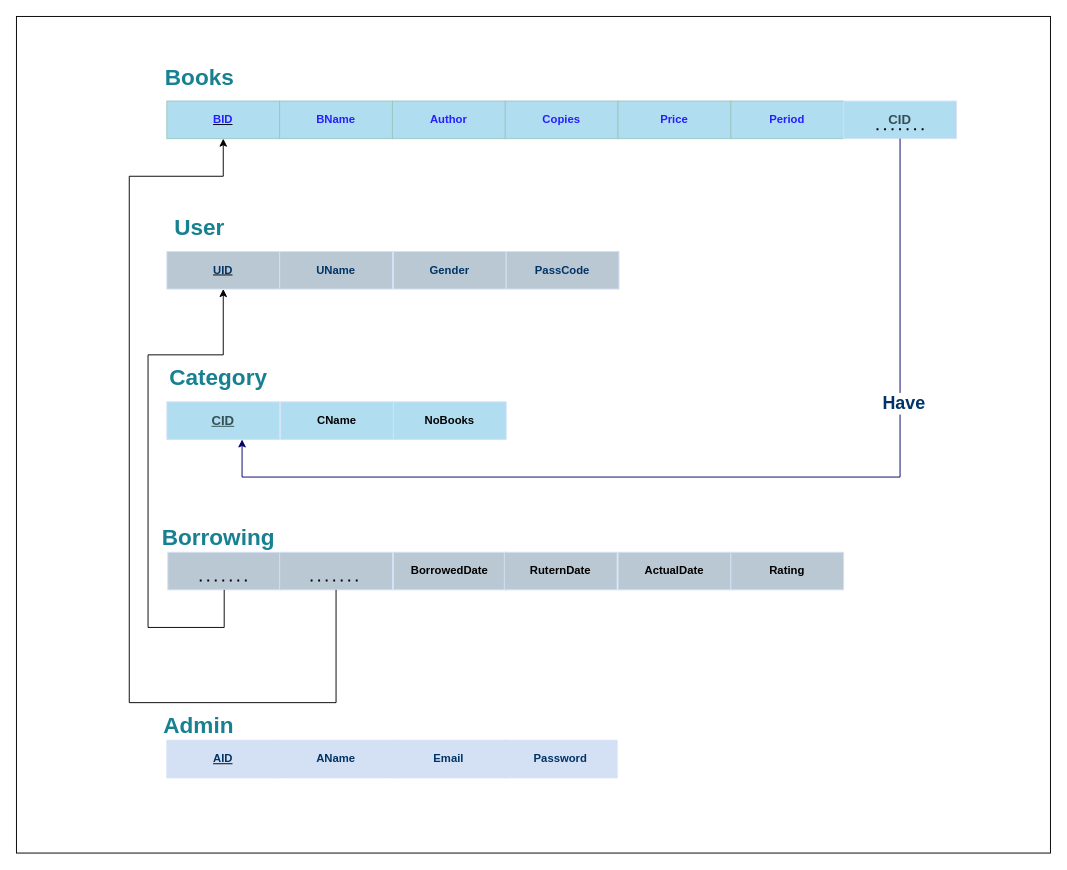
Image size: 1067x870. Some labels were removed from this diagram. Each missing label, with the centre of its shape:
BOOKID: pixel 335 570
USERID: pixel 224 570
